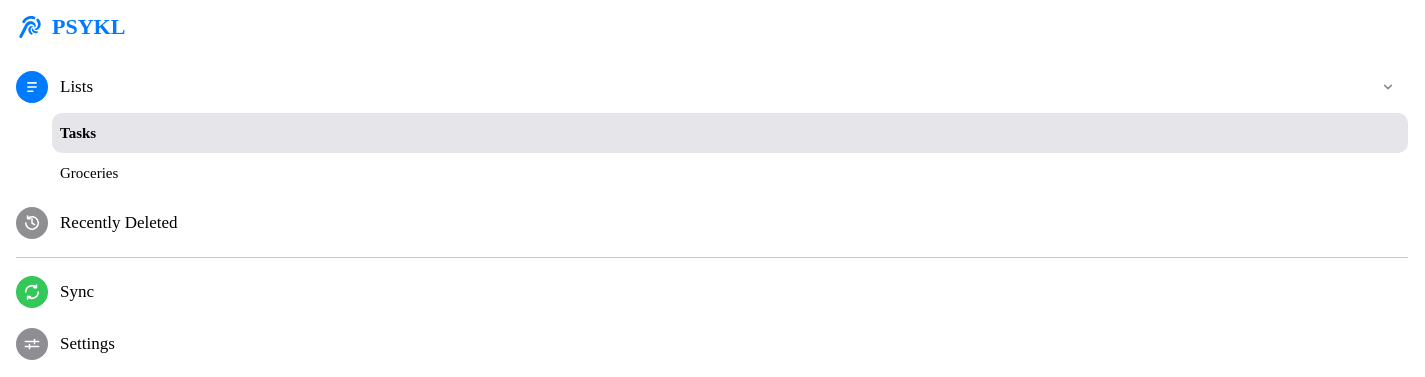
Test case: SidebarNav › collapses and expands the Lists section
This screenshot has width=1425, height=377.
Expected: the button "Groceries" is shown, x1=52 y1=153 x2=1408 y2=193
Click the button named "Collapse Lists" at (1388, 87), box x1=1368 y1=67 x2=1408 y2=107
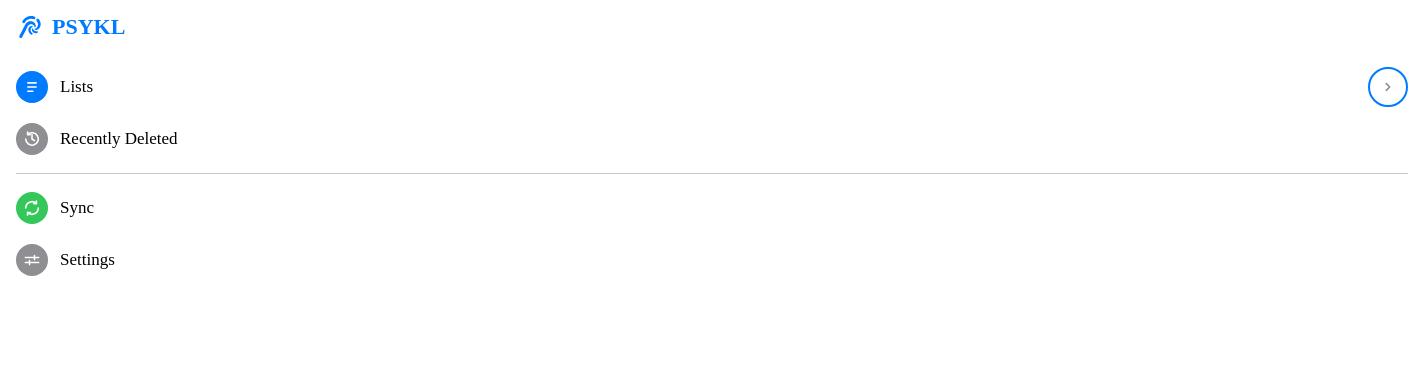
Expected: the button "Groceries" is gone
Click the button named "Expand Lists" at (1388, 87), box x1=1368 y1=67 x2=1408 y2=107
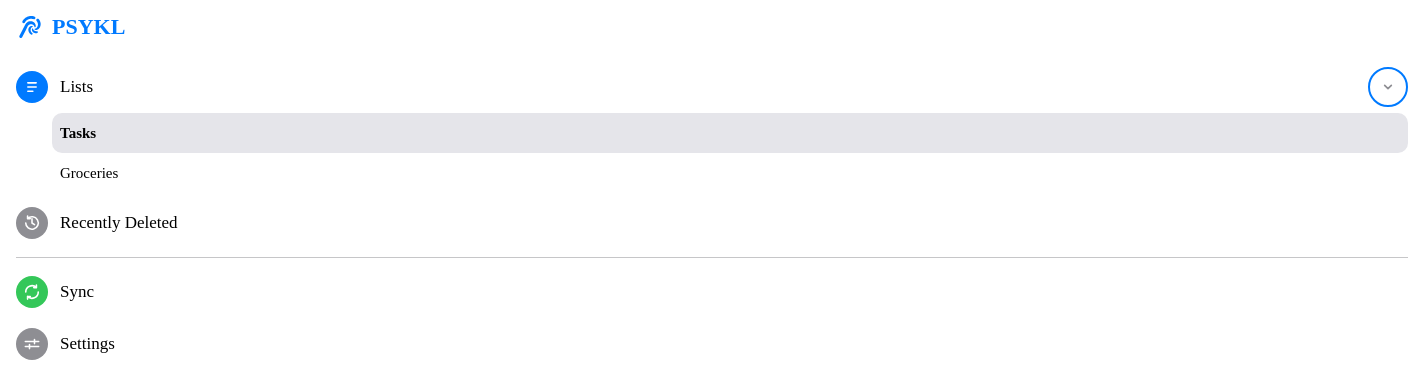
Expected: the button "Groceries" is shown, x1=52 y1=153 x2=1408 y2=193
